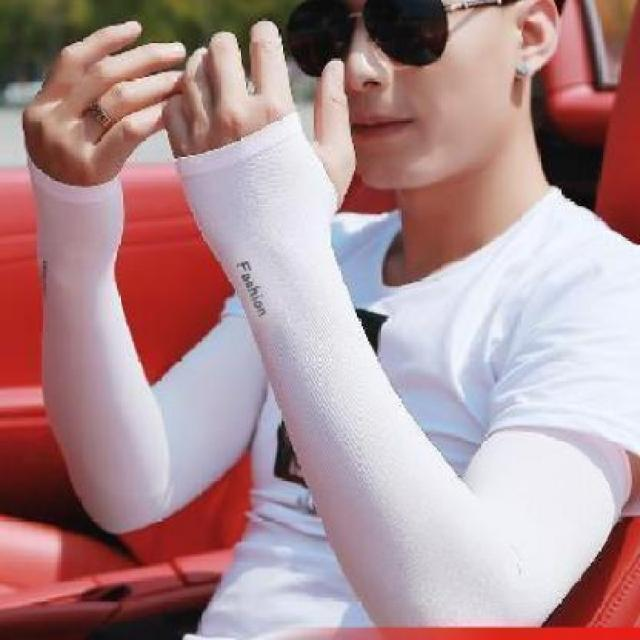No_Ear-Protection: (505, 0, 566, 83)
face_nomask: (315, 0, 491, 208)
glasses: (284, 0, 455, 78)
hand_noglove: (163, 18, 354, 210), (22, 17, 189, 197)
person: (0, 0, 629, 640)
